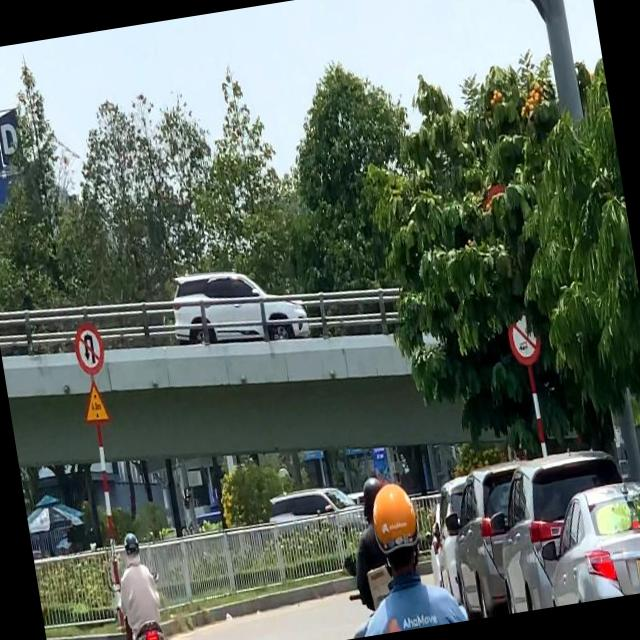P-124a1: (72, 324, 105, 374)
W-239b: (76, 378, 112, 426)
